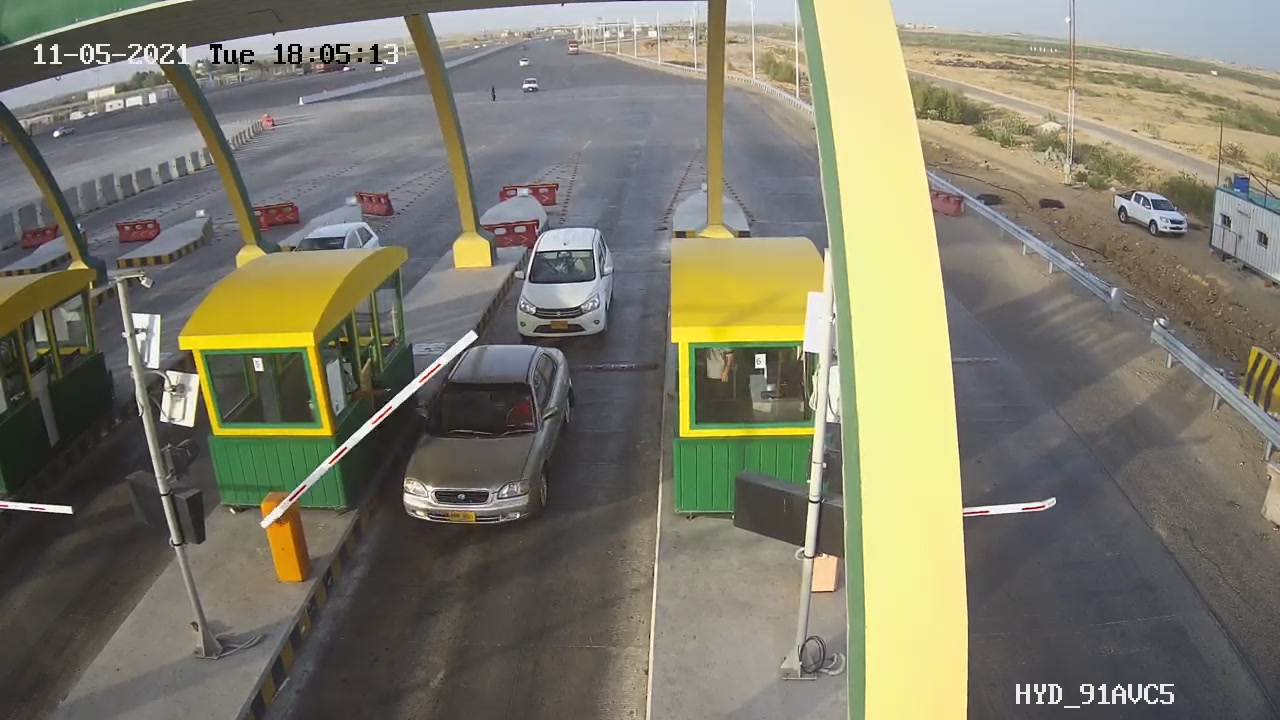F1: (382, 335, 587, 562), (507, 218, 635, 347)
